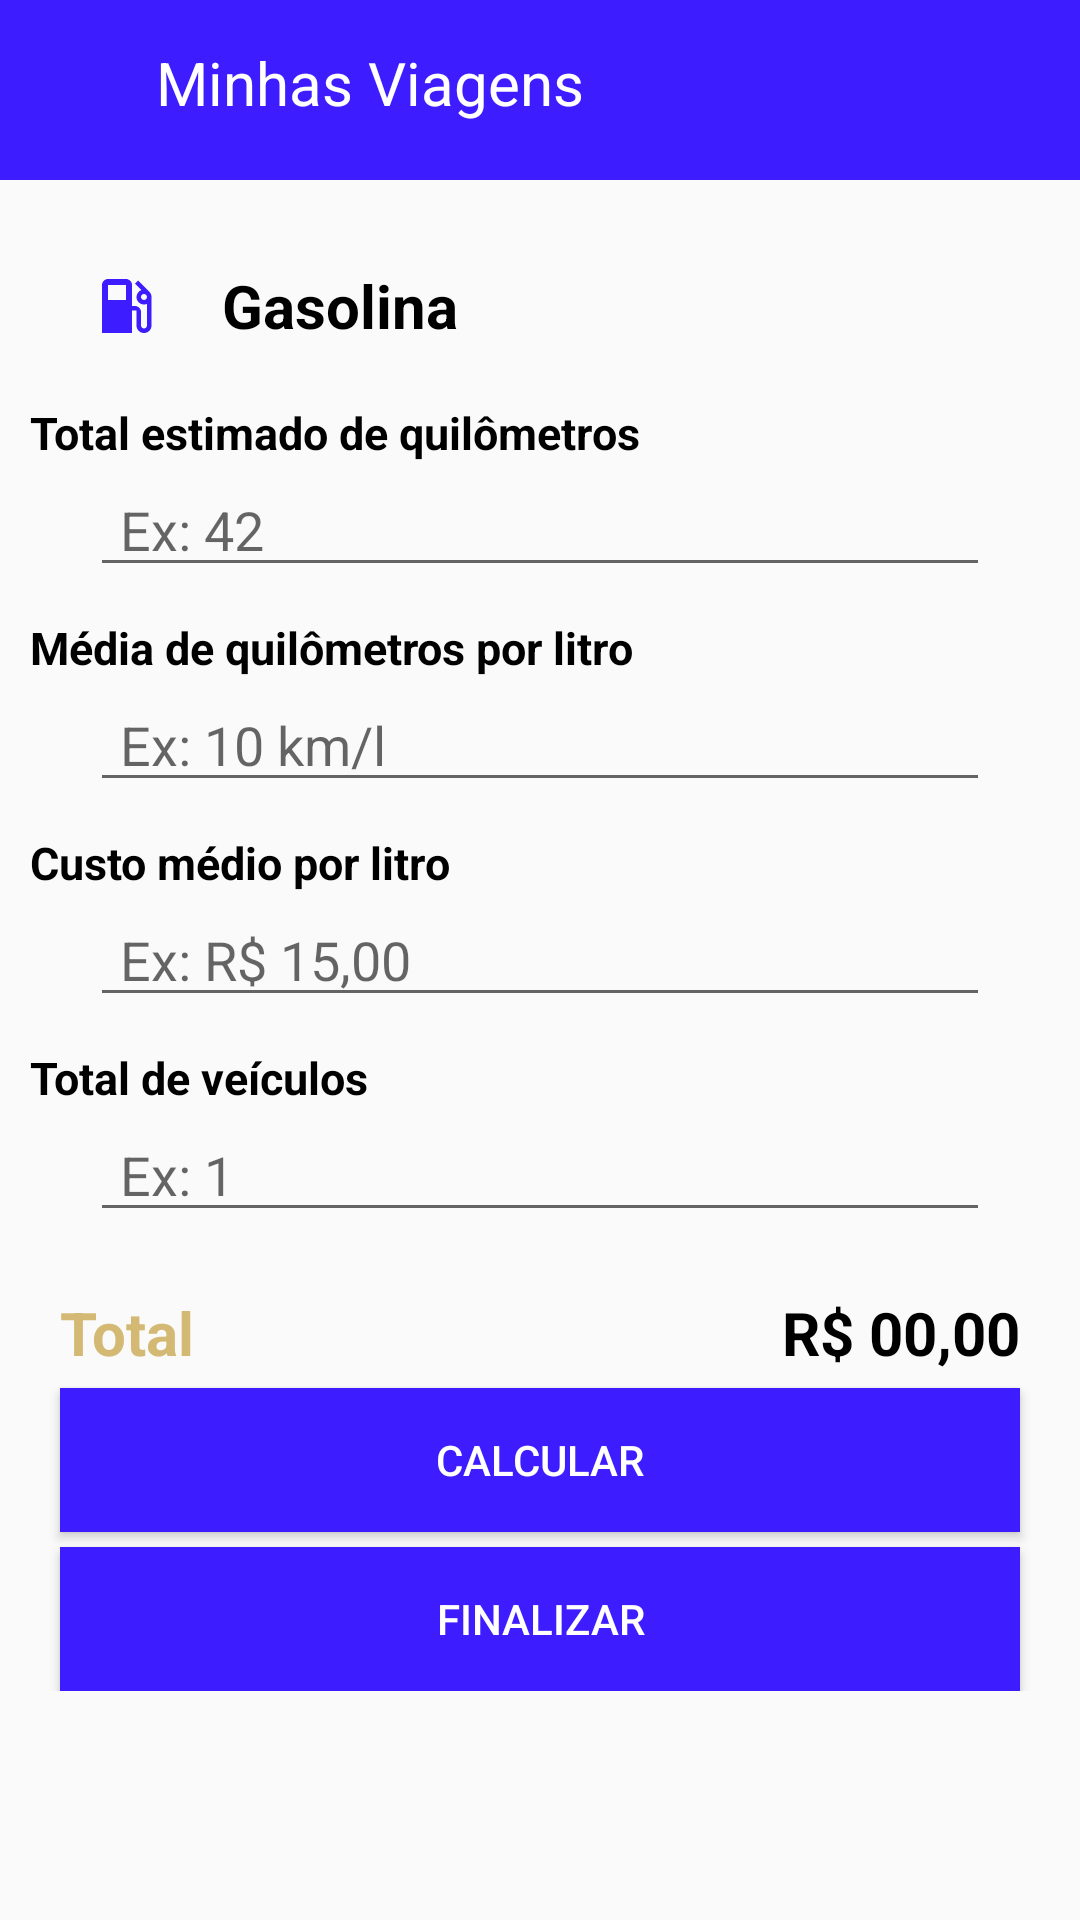

Point at icon controls on the screen. Image size 1080 × 1920, points as [x,y].
combustivel: [127,306]
